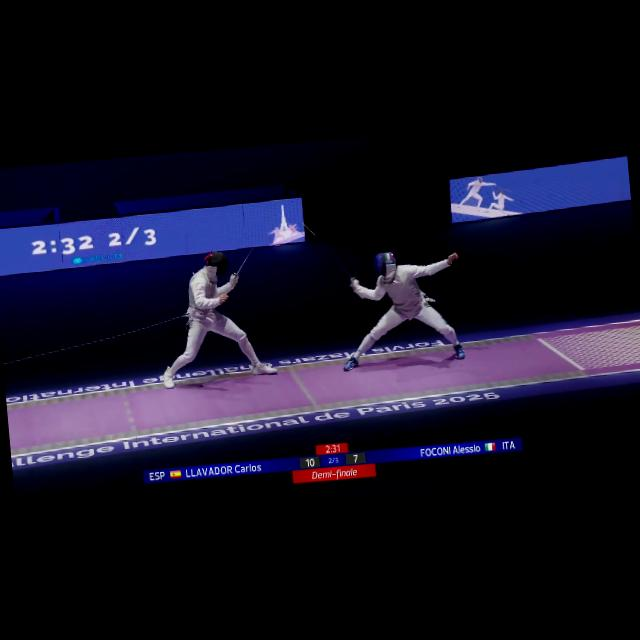blade: (228, 236, 270, 282)
